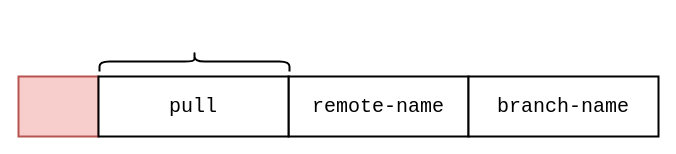
This 676x154 diagram has some shape labels left out. Each missing label, with the centre of its shape:
"git" goes at (x=58, y=106).
"git sub command" goes at (x=194, y=61).
